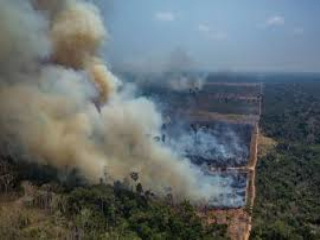smoke: (105, 108, 237, 206), (42, 3, 126, 113)
